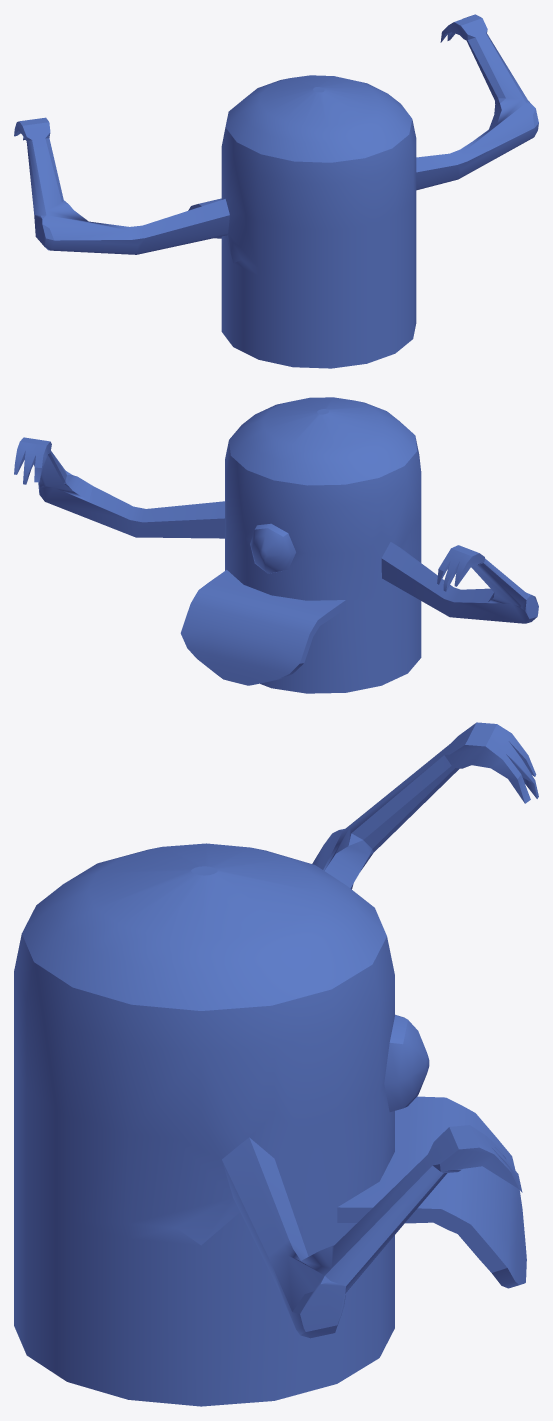
The model's file is ghostModel.FBX.
3 views of the same model, one above another, from view 1: azimuth 30°, elevation 25°; view 2: azimuth 150°, elevation 25°; view 3: azimuth 270°, elevation 25° (orthographic). The views are drawn at different scales.
Visible parts, largest first — view 1: Cylinder003; view 2: Cylinder003; view 3: Cylinder003.
Boxes of the visible parts, bbox=[...] form: Cylinder003: bbox=[14, 14, 538, 368]; Cylinder003: bbox=[14, 397, 538, 693]; Cylinder003: bbox=[14, 722, 538, 1406].
Size of the model in its own units: 126 by 60.77 by 58.26.
